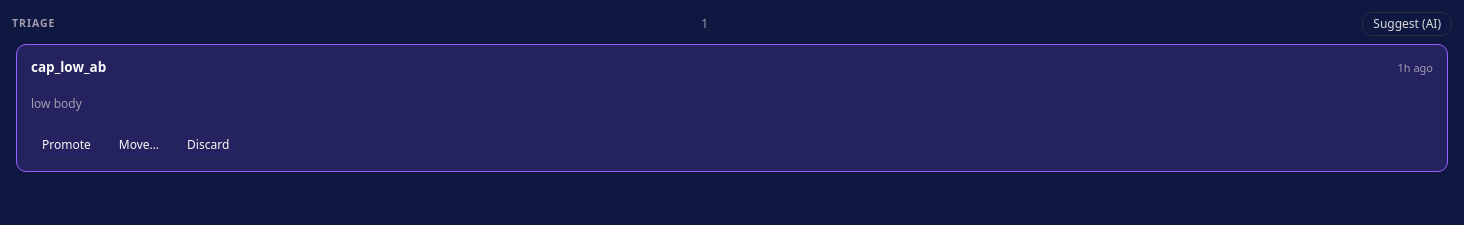
Test: TriageView AI suggestions (P3 Task 2) › low-confidence suggestions render the manual-review state with no chips
Click the button "Suggest (AI)": point(1407, 24) [1362,12,1452,36]
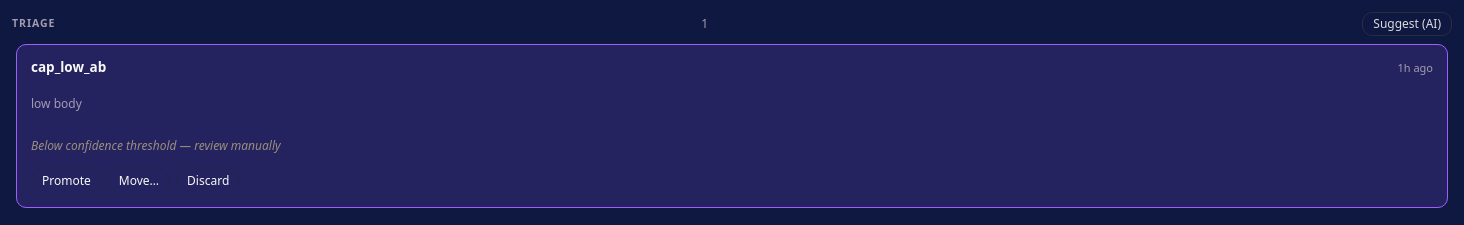
Check: the element with class "low" reads "Below confidence threshold — review manually", box [31,137,281,154]
